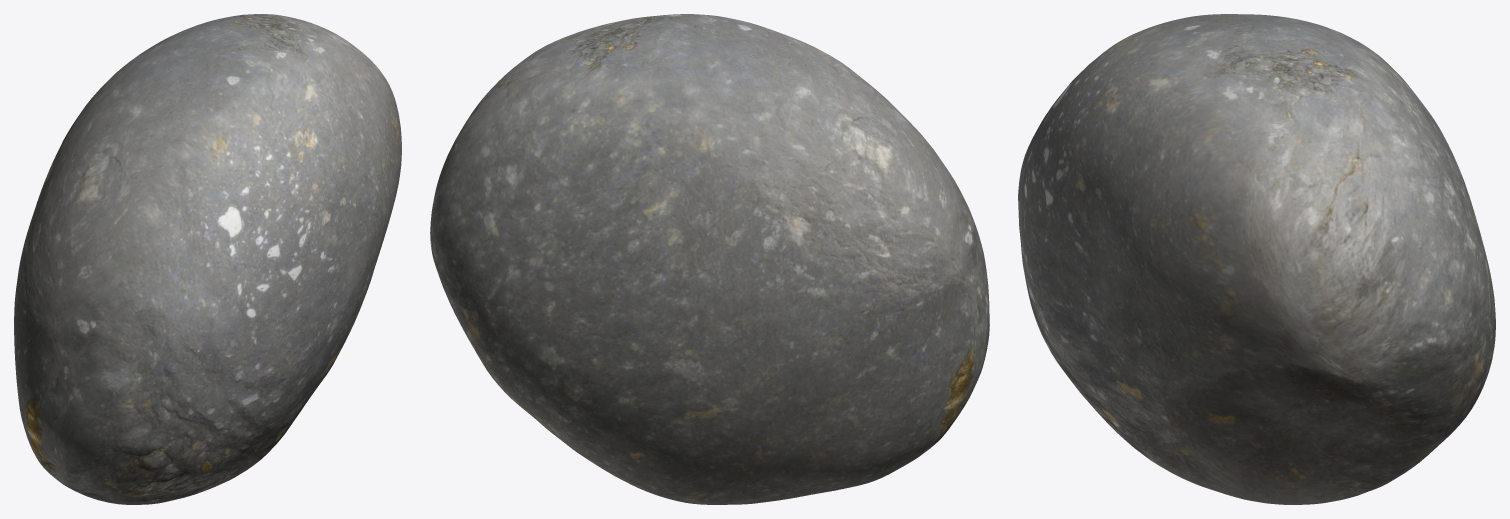
3 views of the same model, side by side, from view 1: azimuth 30°, elevation 25°; view 2: azimuth 150°, elevation 25°; view 3: azimuth 270°, elevation 25° (orthographic). The views are drawn at different scales.
Visible parts, largest first — view 1: Mesh1; view 2: Mesh1; view 3: Mesh1.
Part boxes in pixels (bbox=[...]): Mesh1: bbox=[14, 14, 401, 504]; Mesh1: bbox=[430, 14, 989, 504]; Mesh1: bbox=[1018, 14, 1495, 504].
Size of the model in its own units: 200 by 194 by 172.
1 material, 1 textured.
